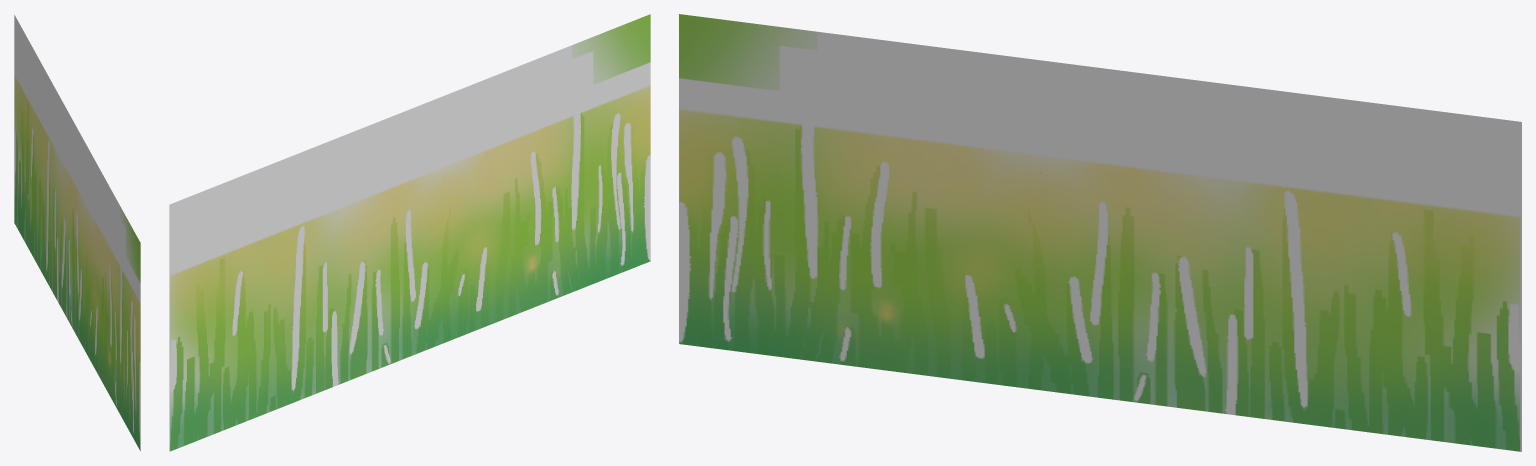
The model's file is PVB export grass 01.fbx.
The picture shows the model from 3 angles, left to right: view 1: azimuth 30°, elevation 25°; view 2: azimuth 150°, elevation 25°; view 3: azimuth 270°, elevation 25°; orthographic projection. The views are drawn at different scales.
Visible parts, largest first — view 1: grass; view 2: grass; view 3: grass.
Part boxes in pixels (<box>): grass: <box>14,15,140,450</box>; grass: <box>169,14,650,451</box>; grass: <box>679,14,1521,451</box>.
Size of the model in its own units: 1.46 by 2.07 by 4.8.
1 material, 1 textured.
